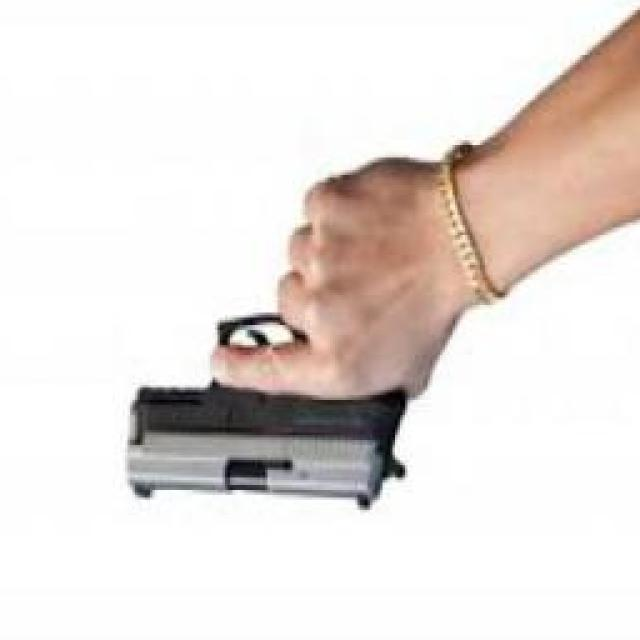pistol: (126, 173, 435, 518)
